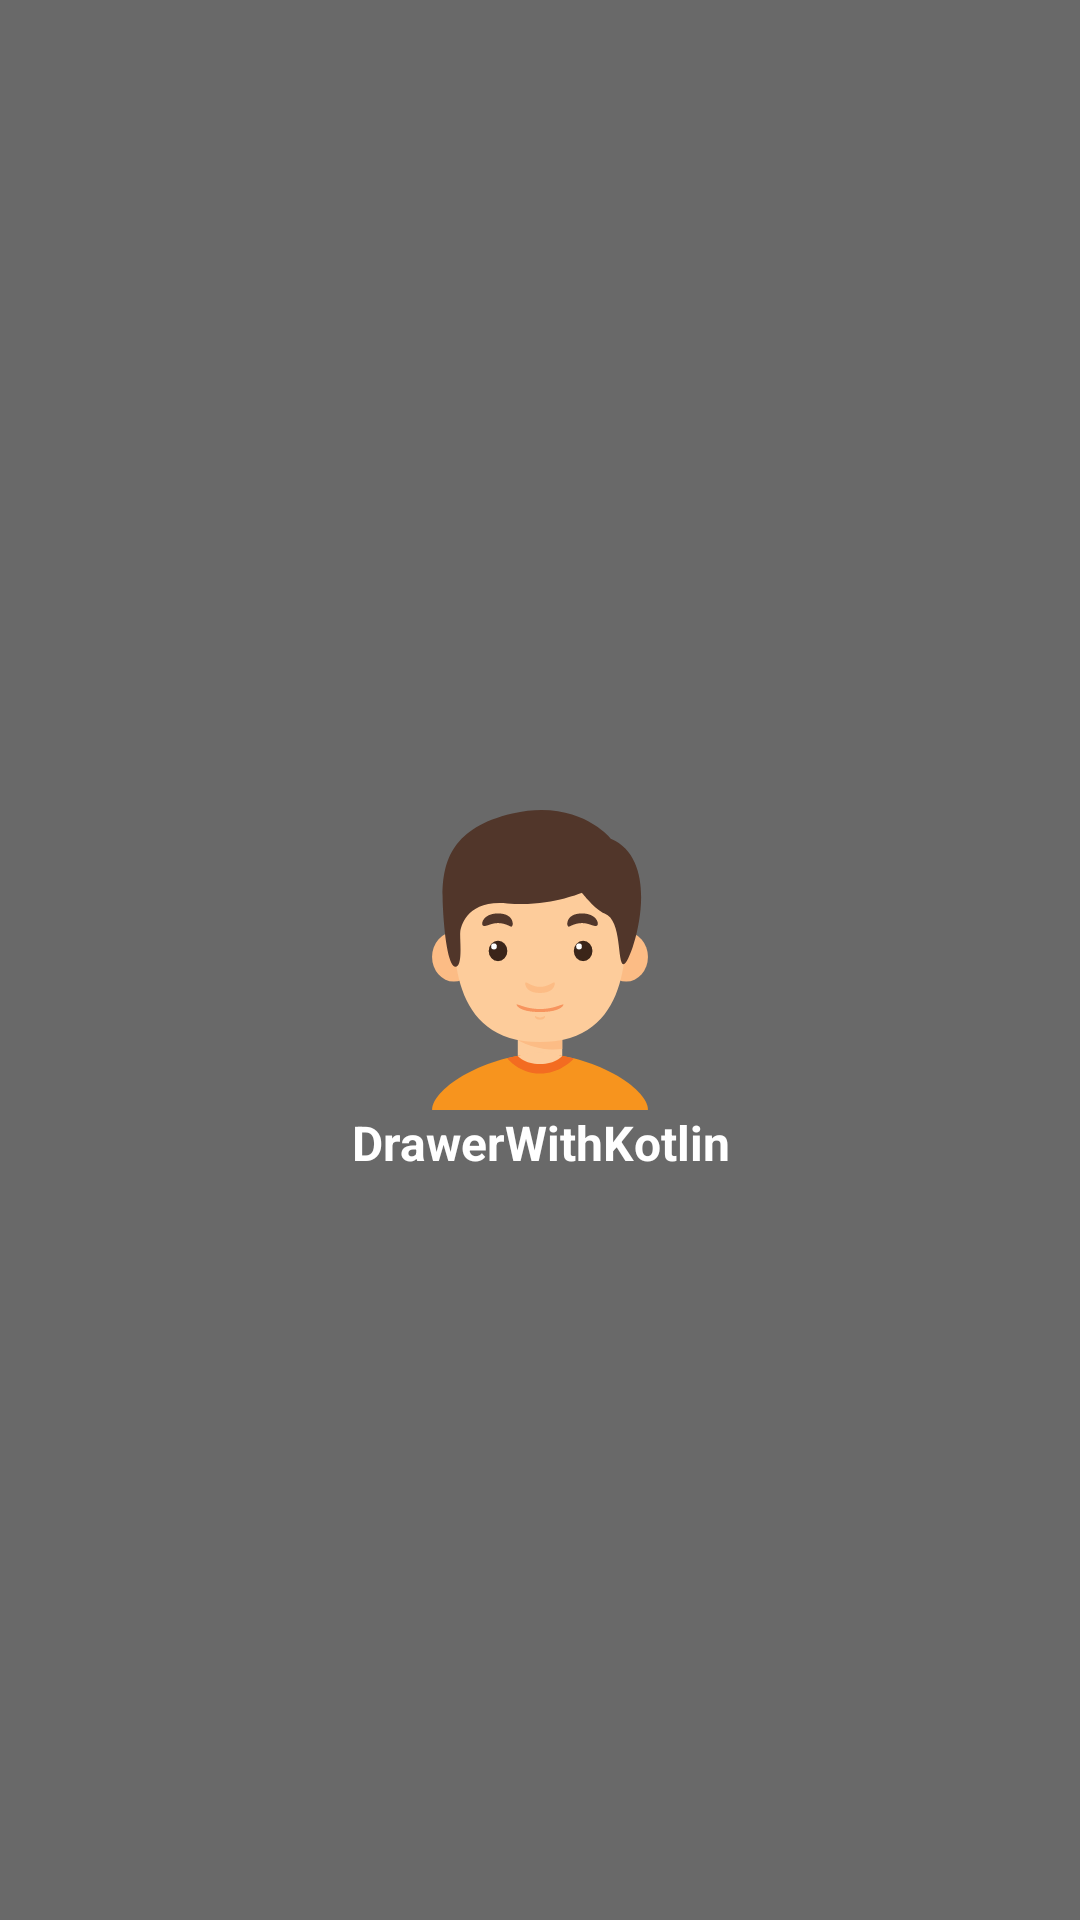

Named icons in this screenshot (1080*1920) and their bounding boxes, (left=x1, top=y1, right=x2, bottom=y2):
boy: (left=432, top=810, right=648, bottom=1110)
